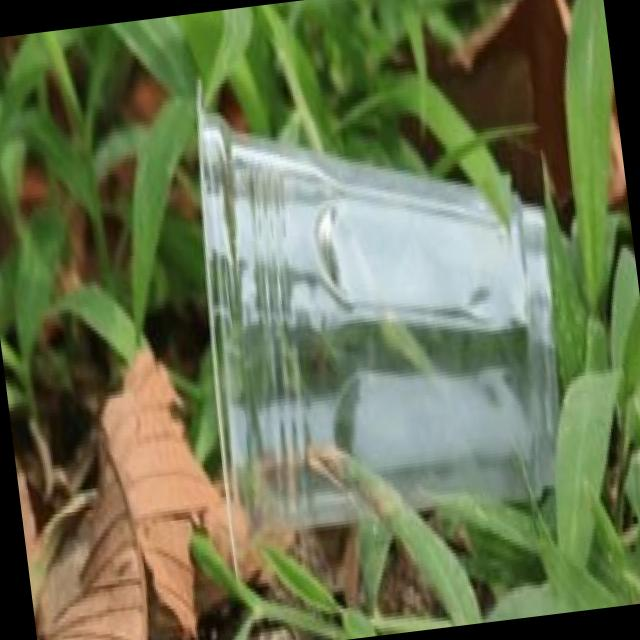general: (172, 41, 600, 548)
